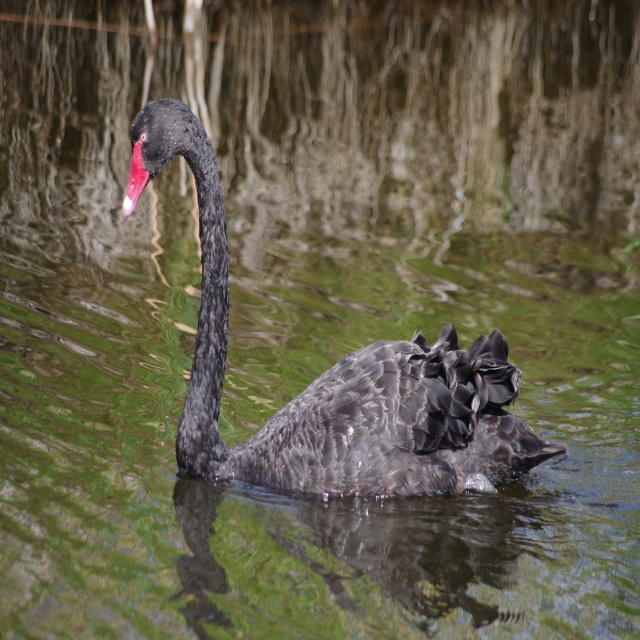Swan: (121, 97, 567, 496)
